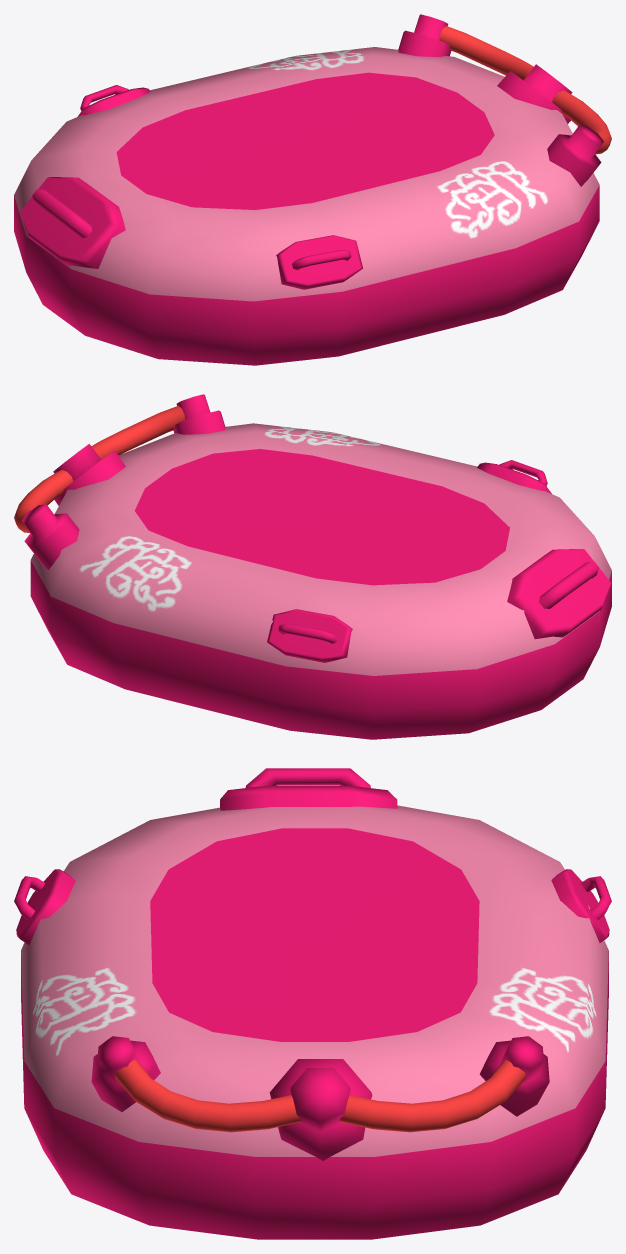
Rendered from OBS0110200.fbx.
The picture shows the model from 3 angles, top to bottom: view 1: azimuth 30°, elevation 25°; view 2: azimuth 150°, elevation 25°; view 3: azimuth 270°, elevation 25°; orthographic projection. The views are drawn at different scales.
Parts seen in each view (by area): view 1: smOBS0110200; view 2: smOBS0110200; view 3: smOBS0110200.
Boxes of the visible parts, bbox=[...] form: smOBS0110200: bbox=[14, 14, 611, 365]; smOBS0110200: bbox=[14, 394, 611, 739]; smOBS0110200: bbox=[14, 768, 611, 1239].
Bounding box in the file's own units: 572 × 162 × 430.
Materials: 1 (1 with a texture image).
